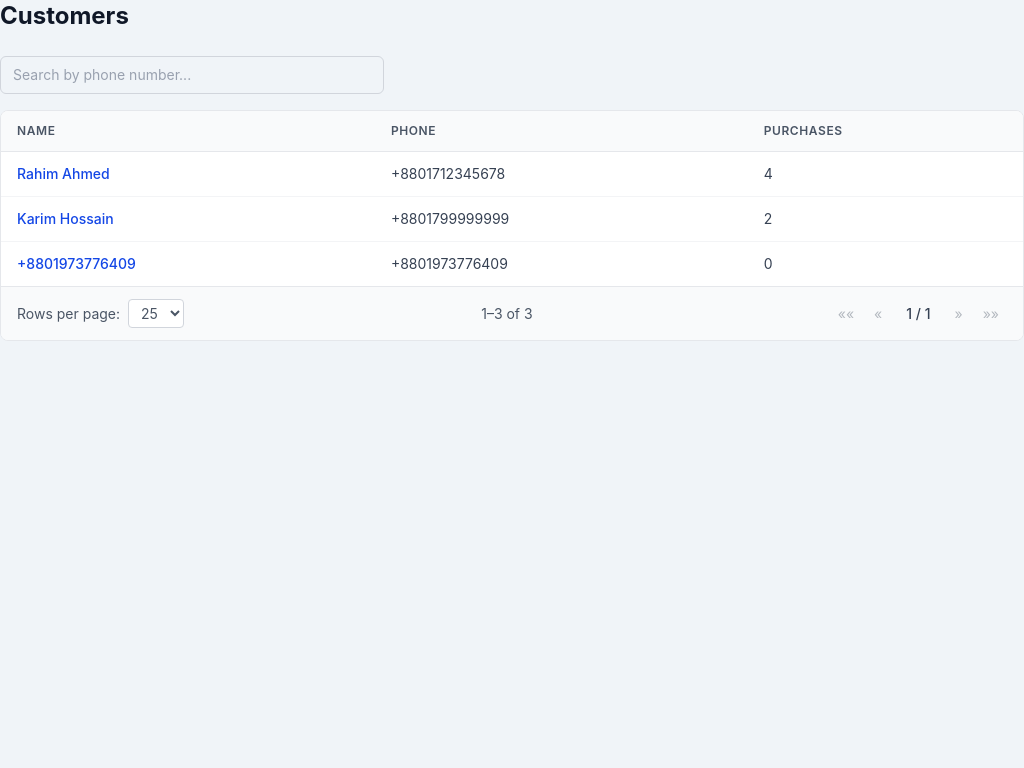
Test case: CustomersPage › Customer Detail Panel › opens detail panel when customer name is clicked
This screenshot has width=1024, height=768.
Click the button "Rahim Ahmed": (63, 174) [17,164,110,184]
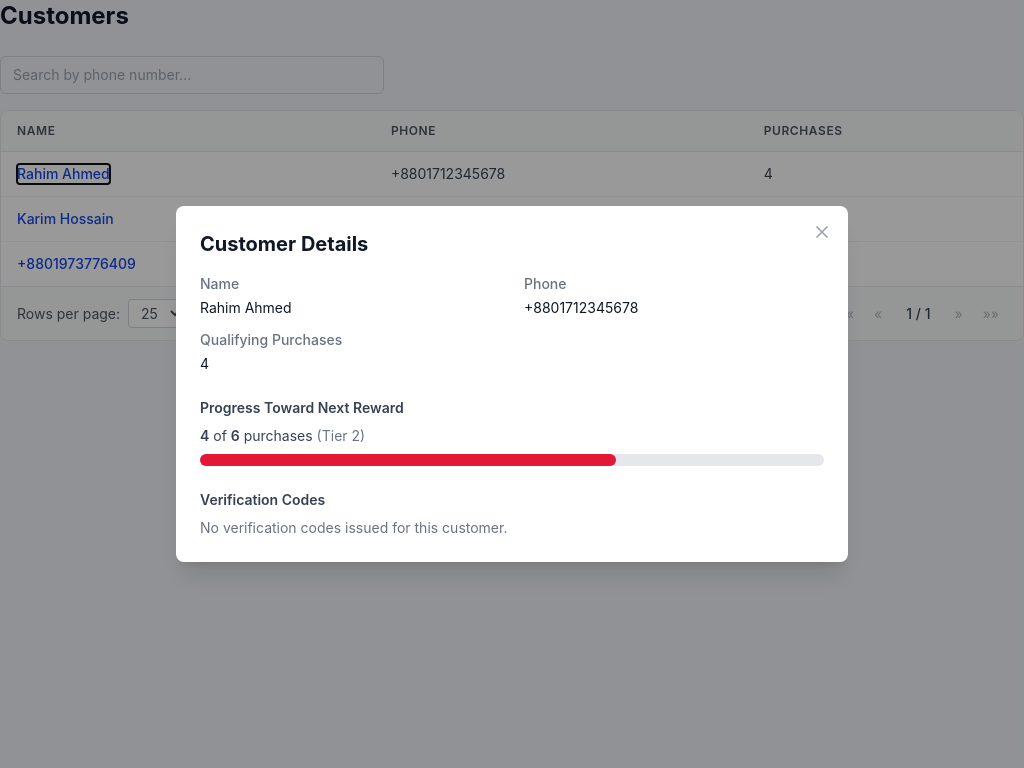
Now the dialog is shown, box [176,206,848,562]
Now the heading "Customer Details" is shown, box [200,232,368,256]
Now the progress indicator is shown, box [200,454,616,466]
